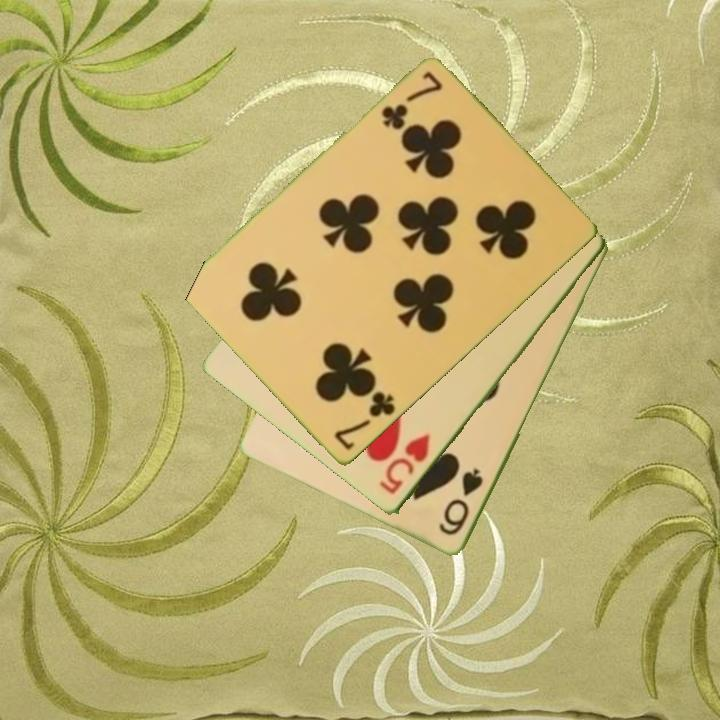5h: (376, 431, 433, 498)
6s: (435, 465, 487, 539)
7c: (330, 388, 398, 455), (377, 68, 445, 134)
